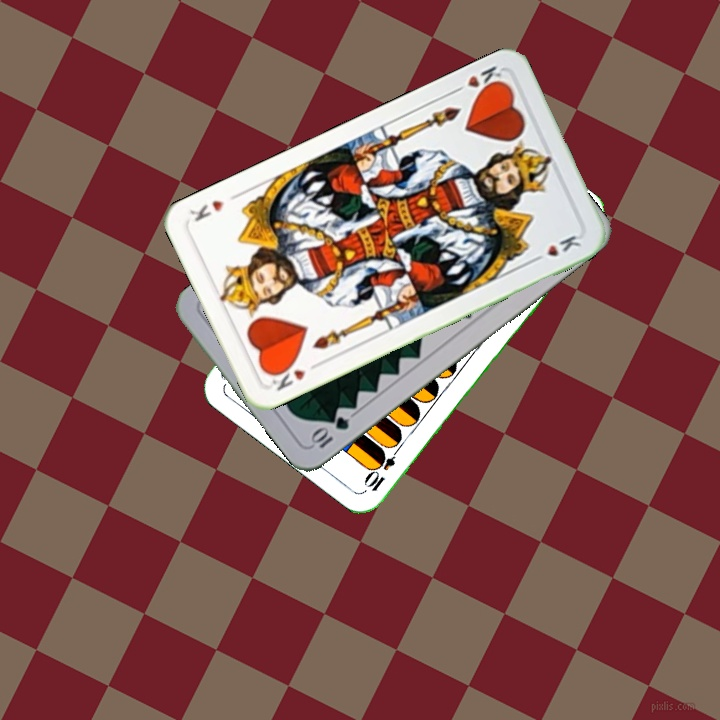E10: (362, 440, 404, 494)
G10: (307, 412, 352, 451)
HK: (448, 61, 508, 98), (264, 358, 322, 394)
